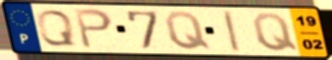7: (124, 9, 161, 50)
I: (221, 9, 243, 53)
P: (72, 8, 115, 50)
Q: (250, 11, 301, 53), (163, 10, 213, 51), (35, 9, 78, 48)
